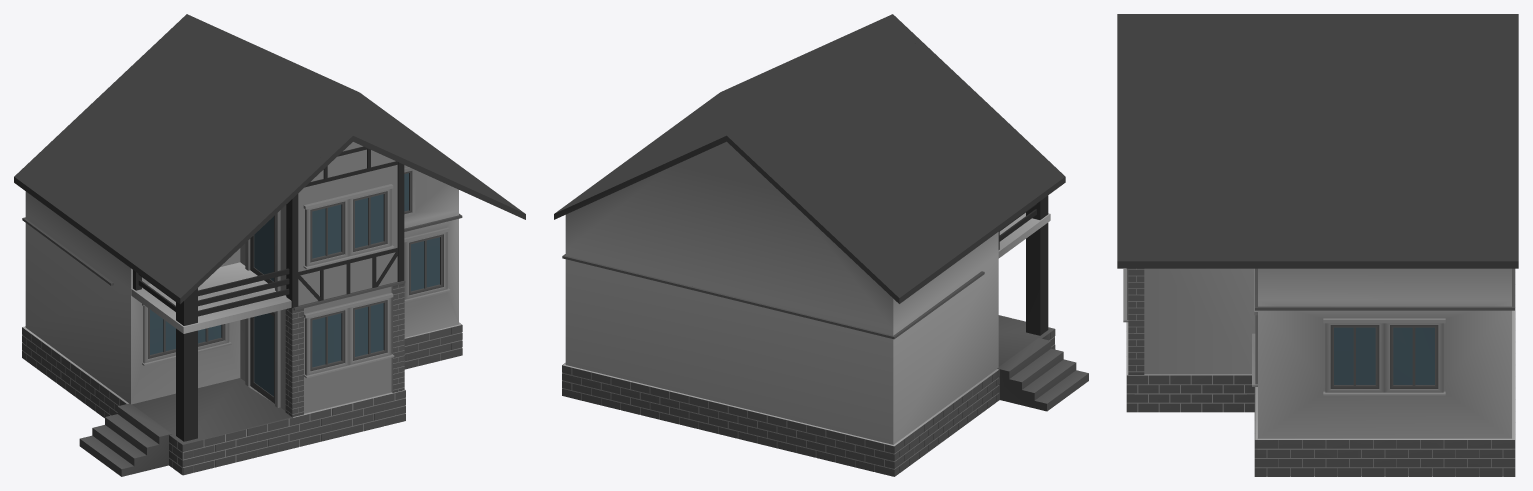
File: house_011.glb
3 views of the same model, side by side, from view 1: azimuth 30°, elevation 25°; view 2: azimuth 150°, elevation 25°; view 3: azimuth 270°, elevation 25° (orthographic). The views are drawn at different scales.
Parts seen in each view (by area): view 1: house_011; view 2: house_011; view 3: house_011.
Boxes of the visible parts, left/top/right/bottom form: house_011: left=14, top=14, right=525, bottom=476; house_011: left=554, top=14, right=1088, bottom=476; house_011: left=1117, top=14, right=1518, bottom=476.
Bounding box in the file's own units: 11.66 × 8.7 × 8.68.
1 material, 1 textured.
